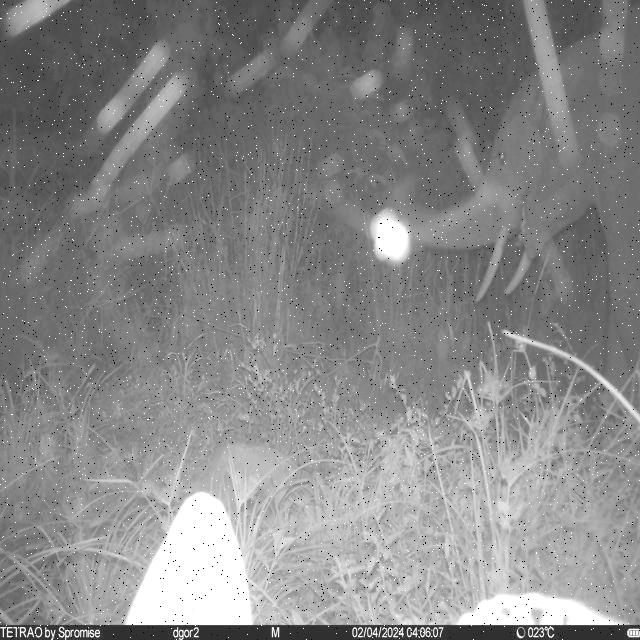elephant: (385, 18, 639, 406)
tusk: (474, 225, 509, 306), (506, 253, 536, 297)
